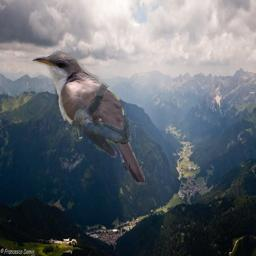Cuckoo: (30, 49, 145, 187)
